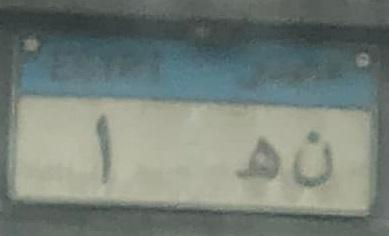1: (76, 96, 127, 190)
ن: (285, 115, 349, 189)
ه: (219, 124, 284, 186)
